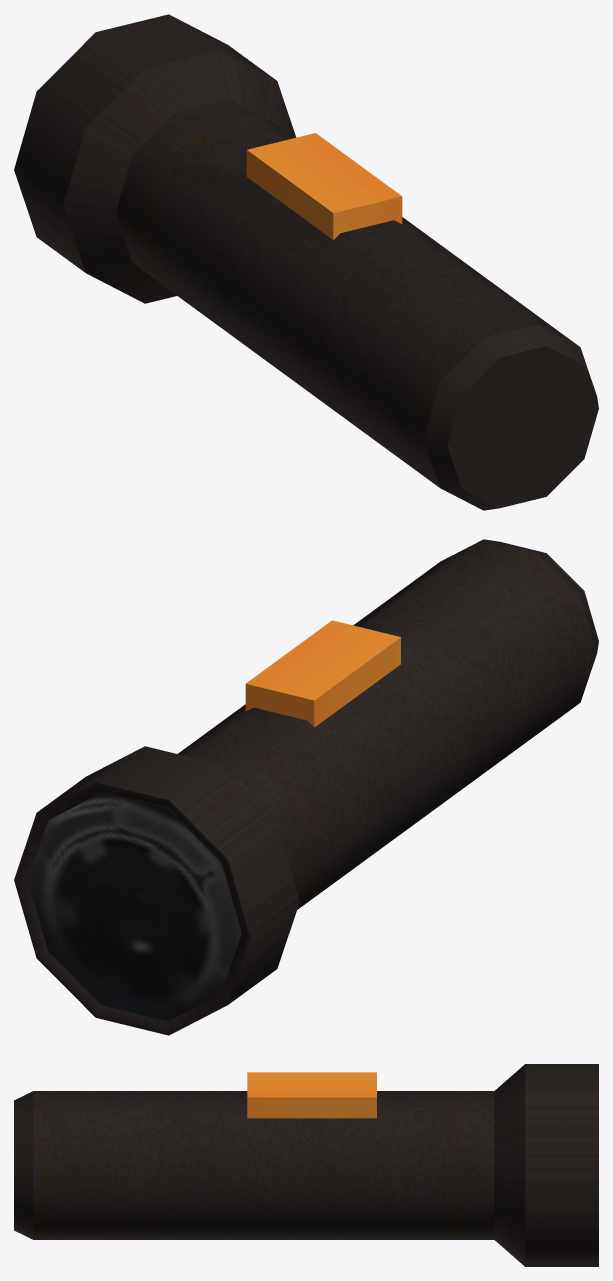
Rendered from flashlight.fbx.
3 views of the same model, one above another, from view 1: azimuth 30°, elevation 25°; view 2: azimuth 150°, elevation 25°; view 3: azimuth 270°, elevation 25° (orthographic). The views are drawn at different scales.
Visible parts, largest first — view 1: torch; view 2: torch; view 3: torch.
Boxes of the visible parts, x1=… form: torch: x1=14, y1=14, x2=598, y2=510; torch: x1=14, y1=539, x2=598, y2=1035; torch: x1=14, y1=1064, x2=598, y2=1266.
Size of the model in its own units: 4700 by 4470 by 13448.
